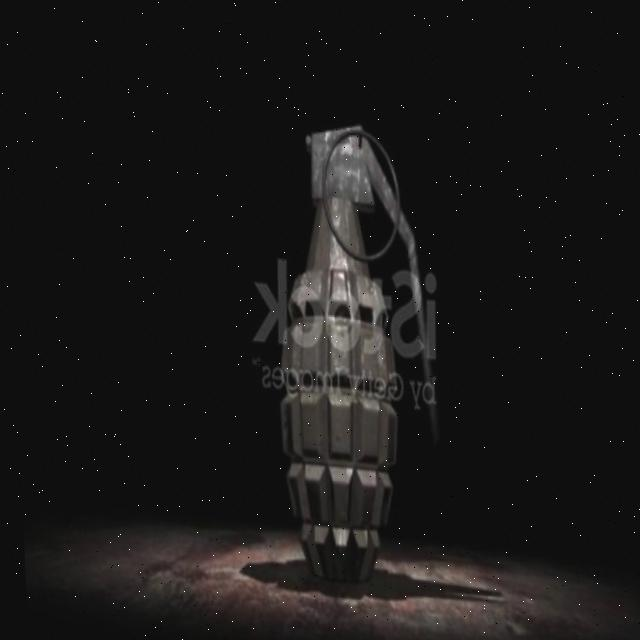grenade: (263, 105, 450, 597)
